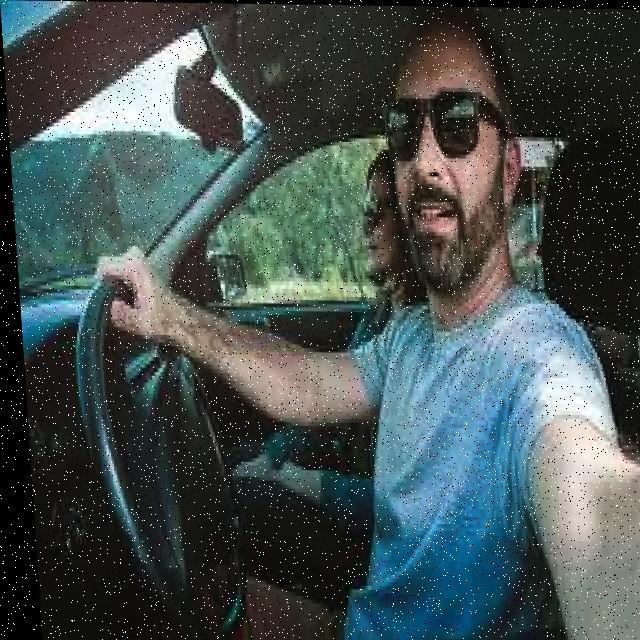noSeatbelt: (310, 234, 625, 640)
